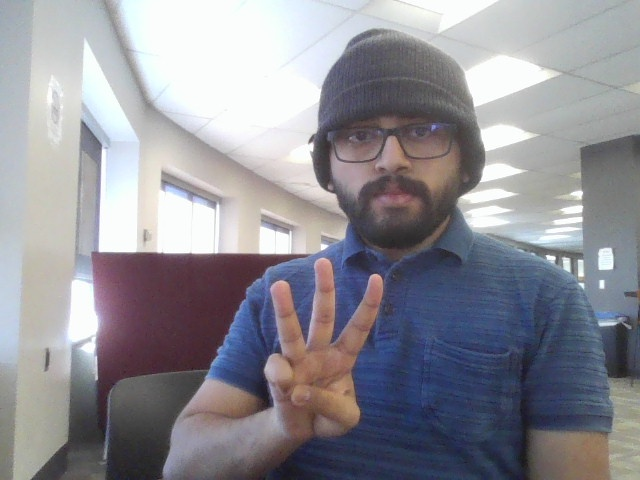start: (247, 255, 399, 449)
